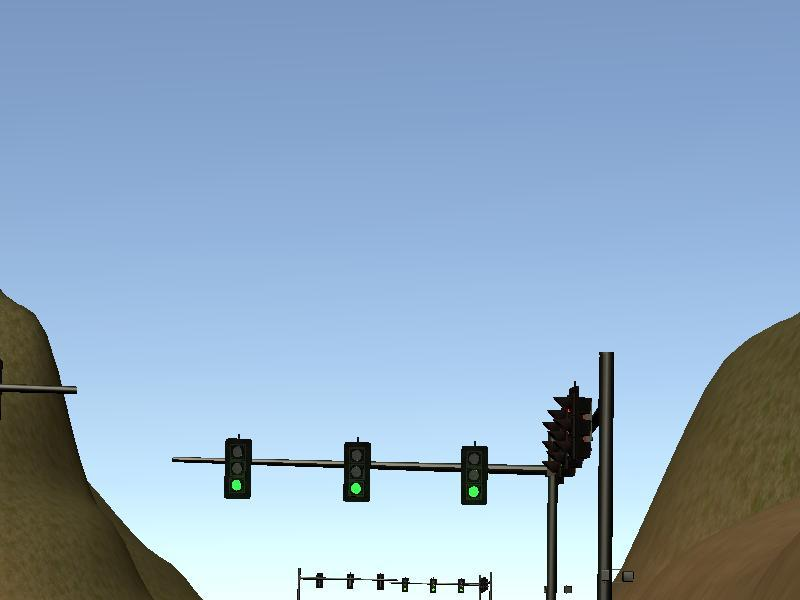Green: (342, 442, 371, 503), (224, 439, 252, 498), (461, 446, 488, 506)
